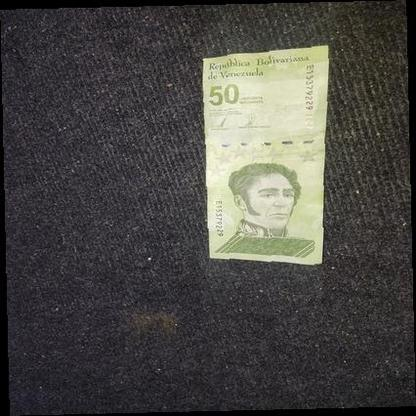fifty-front-vef: (202, 44, 329, 264)
